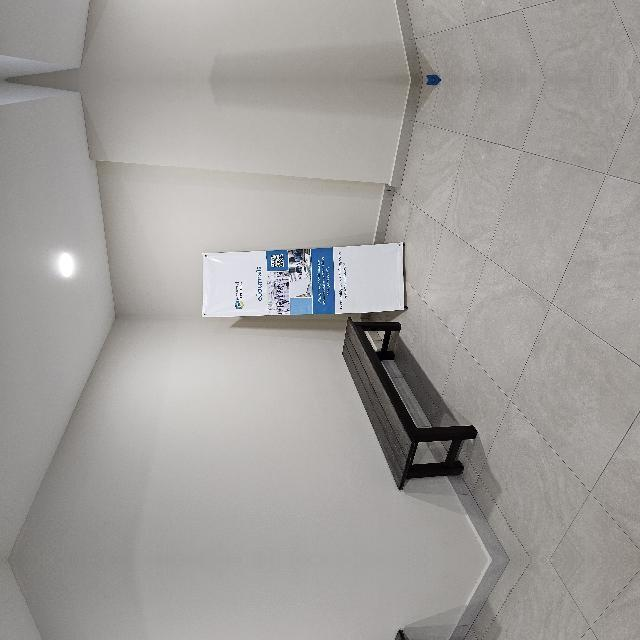obstacle: (61, 410, 235, 544), (240, 278, 316, 488), (61, 576, 235, 640), (240, 632, 315, 640)
